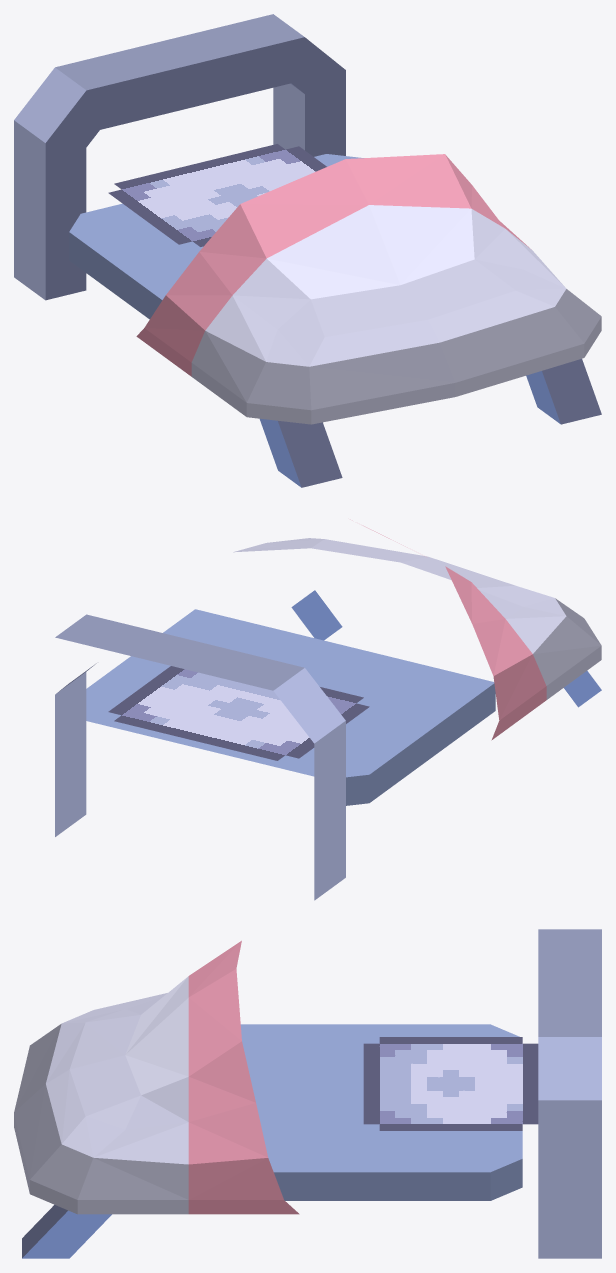
The picture shows the model from 3 angles, top to bottom: view 1: azimuth 30°, elevation 25°; view 2: azimuth 150°, elevation 25°; view 3: azimuth 270°, elevation 25°; orthographic projection.
Parts seen in each view (by area): view 1: bed_h01; view 2: bed_h01; view 3: bed_h01.
Boxes of the visible parts, <box> form: bed_h01: <box>14,14,601,487</box>; bed_h01: <box>55,519,601,900</box>; bed_h01: <box>14,929,601,1258</box>.
Bounding box in the file's own units: 1.62 × 0.9375 × 2.31.
1 material, 1 textured.
